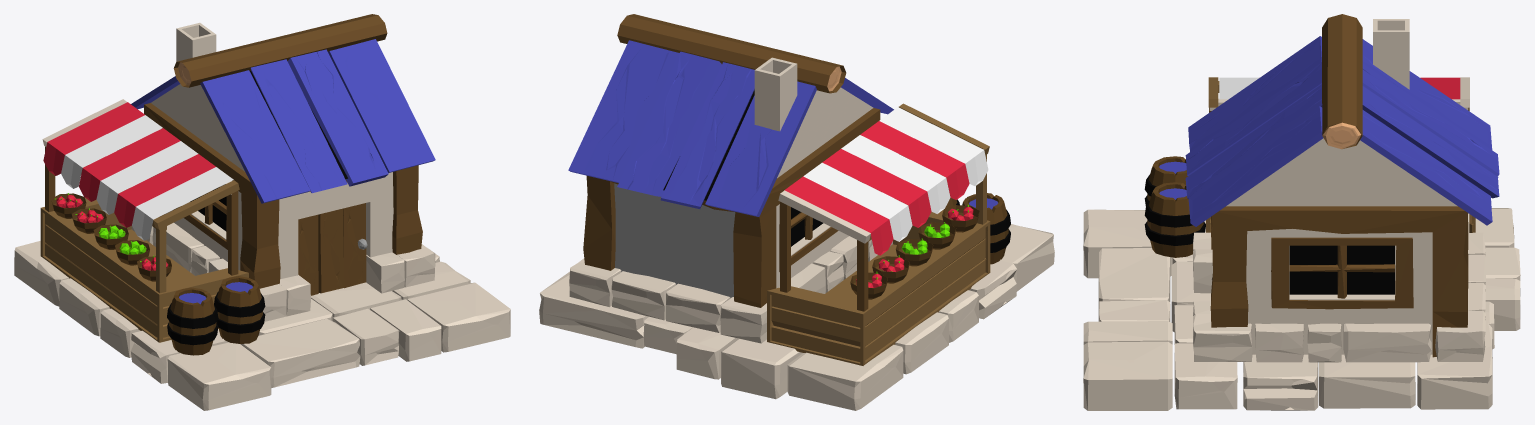
The model's file is Haus 03.fbx.
3 renders of one model, left to right at view 1: azimuth 30°, elevation 25°; view 2: azimuth 150°, elevation 25°; view 3: azimuth 270°, elevation 25°, orthographic. The views are drawn at different scales.
Visible parts, largest first — view 1: Cube.005; view 2: Cube.005; view 3: Cube.005.
Boxes of the visible parts, x1=… form: Cube.005: x1=14, y1=14, x2=510, y2=410; Cube.005: x1=539, y1=14, x2=1054, y2=410; Cube.005: x1=1083, y1=14, x2=1520, y2=410.
Size of the model in its own units: 567 by 443 by 604.
